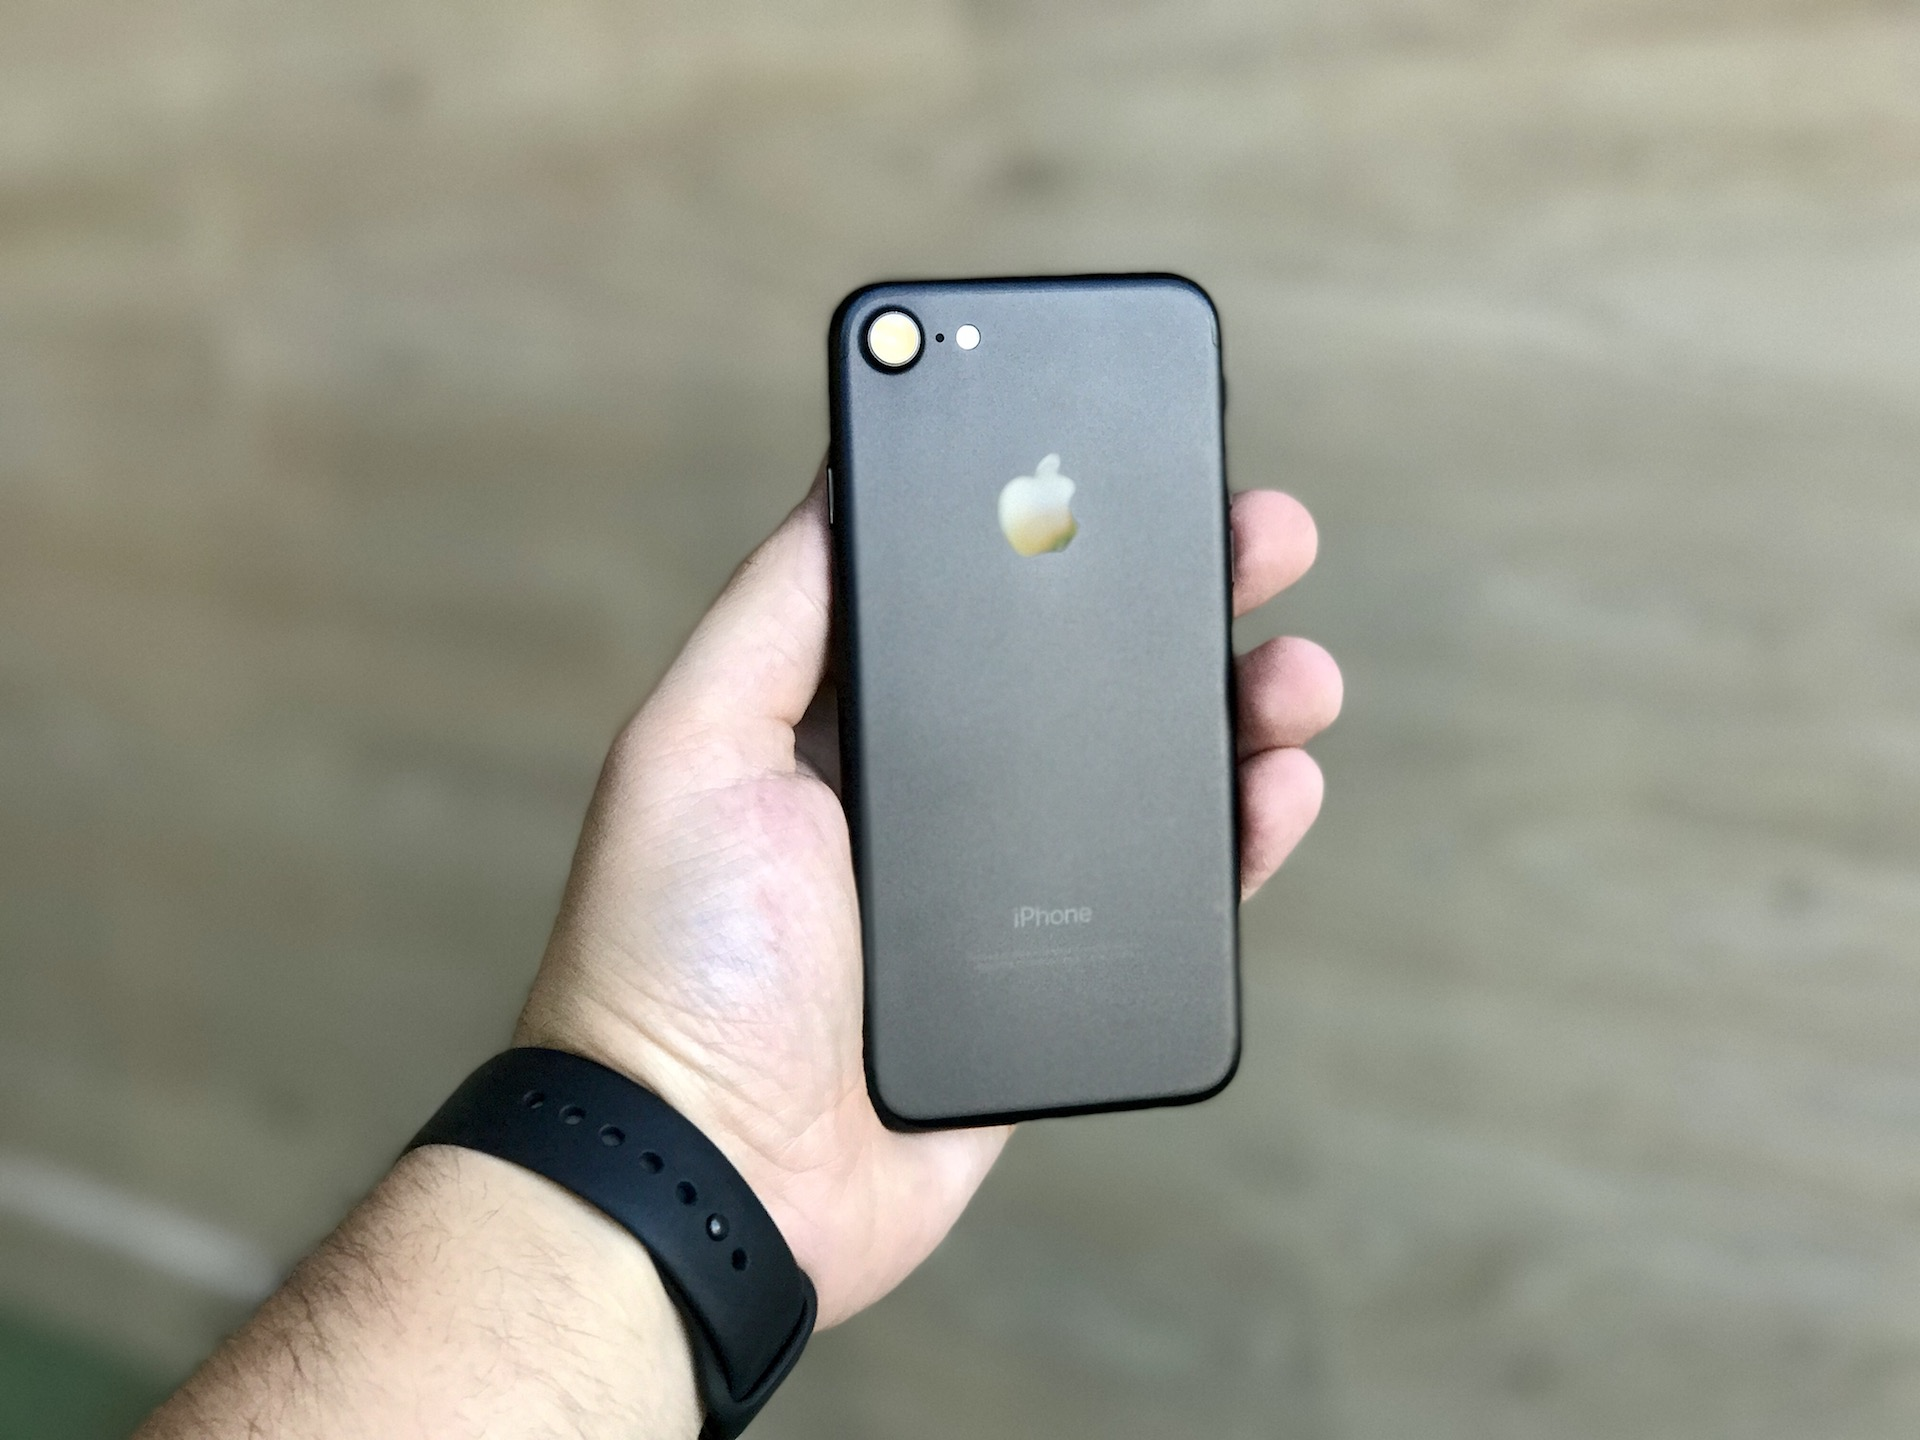smartphone: (822, 268, 1250, 1136)
